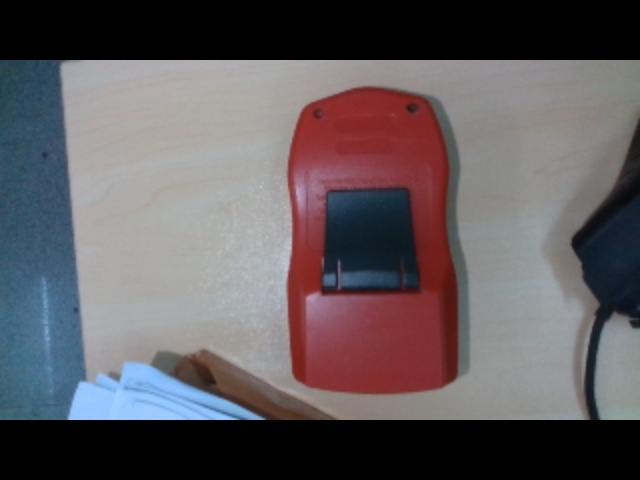Multimeter: (284, 84, 465, 395)
Screw holes: (405, 101, 422, 114), (310, 107, 325, 120)
